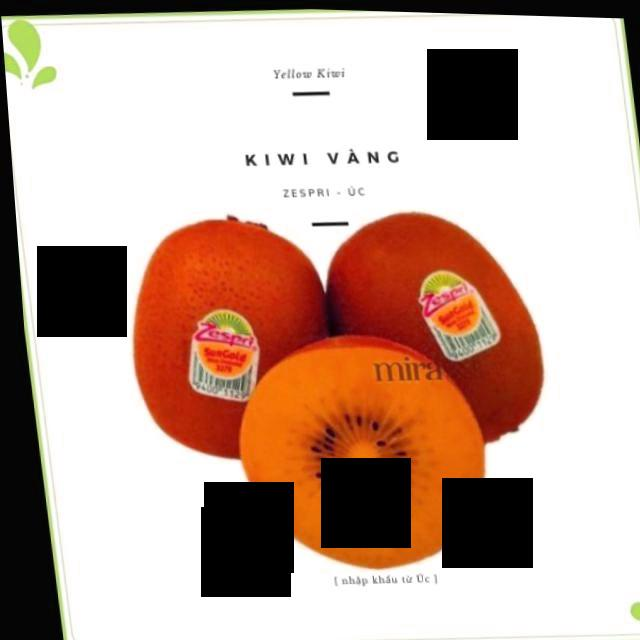kiwi: (105, 207, 353, 479), (302, 199, 551, 463)
